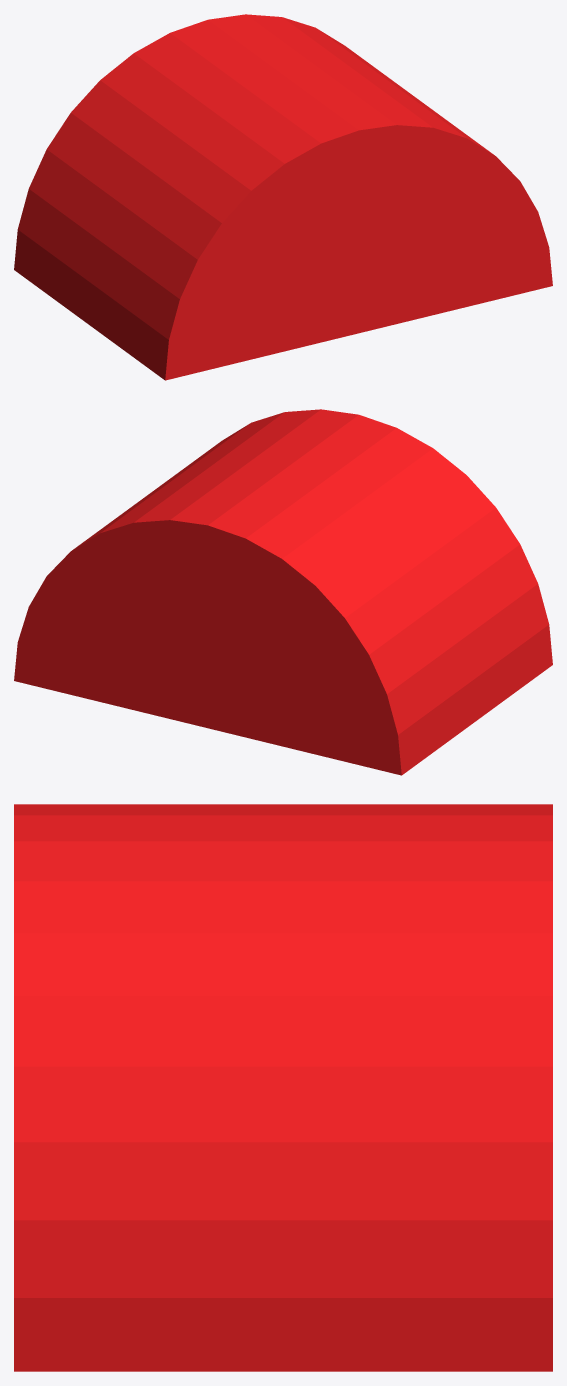
File: lvl 4 1per2 Lingkaran M.fbx
The picture shows the model from 3 angles, top to bottom: view 1: azimuth 30°, elevation 25°; view 2: azimuth 150°, elevation 25°; view 3: azimuth 270°, elevation 25°; orthographic projection. The views are drawn at different scales.
Visible parts, largest first — view 1: Cylinder.020; view 2: Cylinder.020; view 3: Cylinder.020.
Part boxes in pixels (x1,y1,x2,y2): Cylinder.020: [14, 14, 552, 380]; Cylinder.020: [14, 409, 552, 775]; Cylinder.020: [14, 804, 552, 1371].
Bounding box in the file's own units: 294 × 147 × 199.
